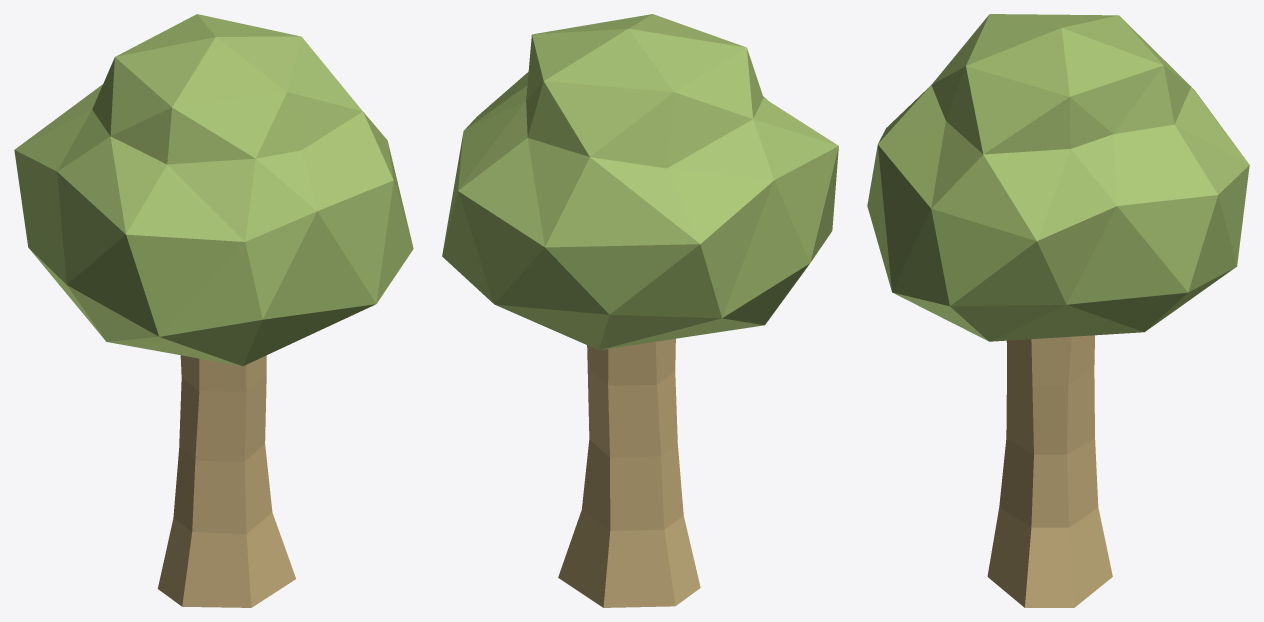
The model's file is Default_Tree.fbx.
The picture shows the model from 3 angles, left to right: view 1: azimuth 30°, elevation 25°; view 2: azimuth 150°, elevation 25°; view 3: azimuth 270°, elevation 25°; orthographic projection. The views are drawn at different scales.
Parts seen in each view (by area): view 1: Icosphere, Body; view 2: Icosphere, Body; view 3: Icosphere, Body.
Boxes of the visible parts, bbox=[...] form: Icosphere: bbox=[14, 14, 413, 366]; Body: bbox=[157, 355, 295, 607]; Icosphere: bbox=[442, 14, 838, 350]; Body: bbox=[558, 338, 700, 607]; Icosphere: bbox=[867, 14, 1249, 341]; Body: bbox=[987, 335, 1112, 607].
Bounding box in the file's own units: 244 × 393 × 248.
